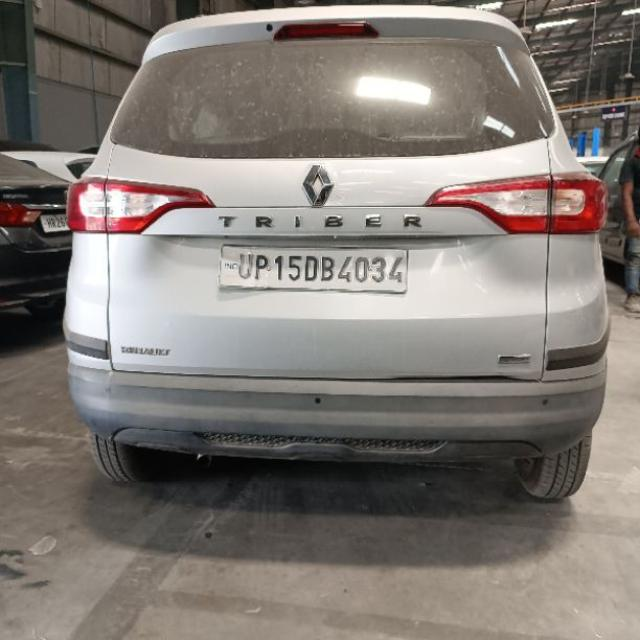license_plate: (216, 244, 408, 292), (39, 212, 69, 233)
